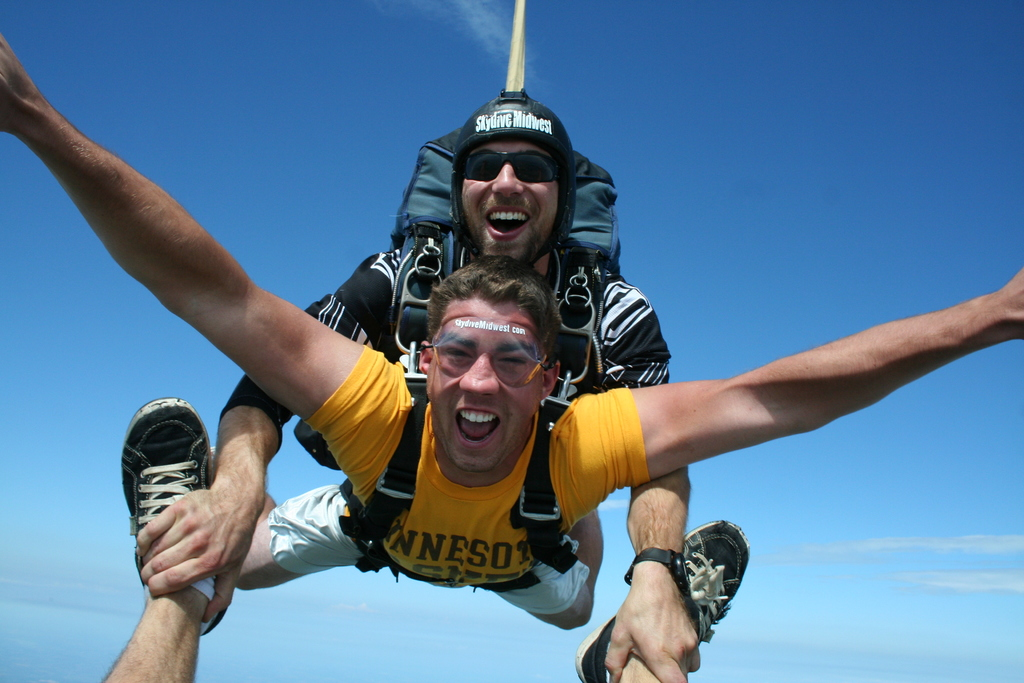Person: (0, 31, 1024, 630), (131, 91, 700, 683), (100, 397, 751, 683)
